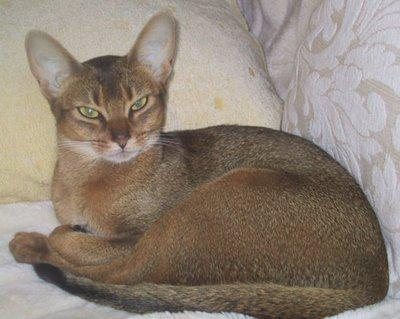cat: (8, 12, 390, 319)
